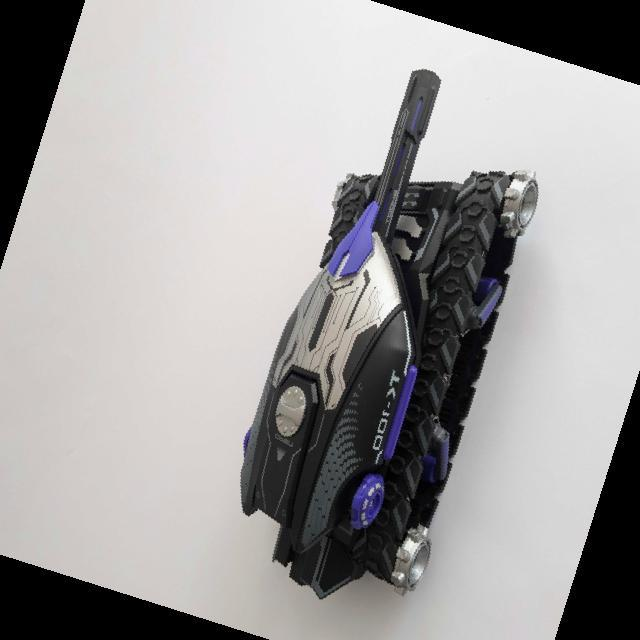barrel: (367, 67, 443, 246)
